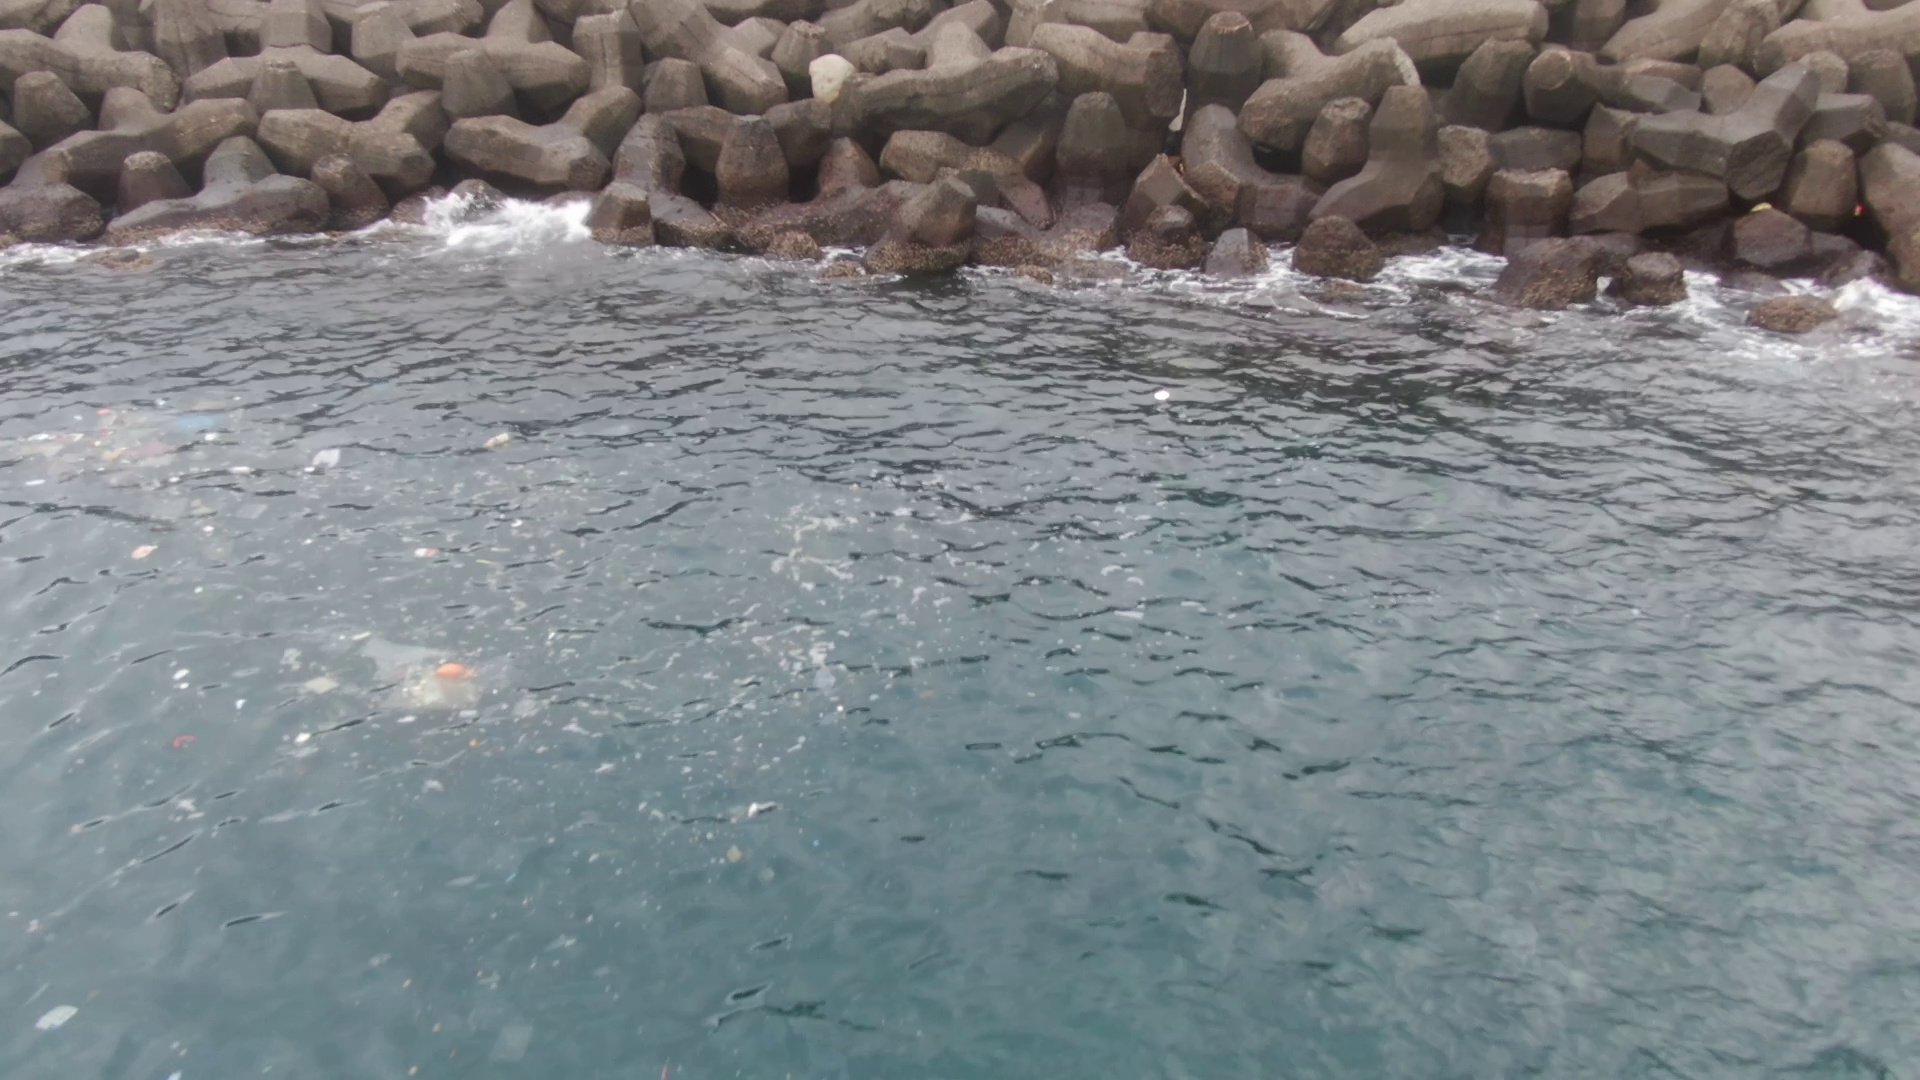garbage: (411, 658, 489, 708)
